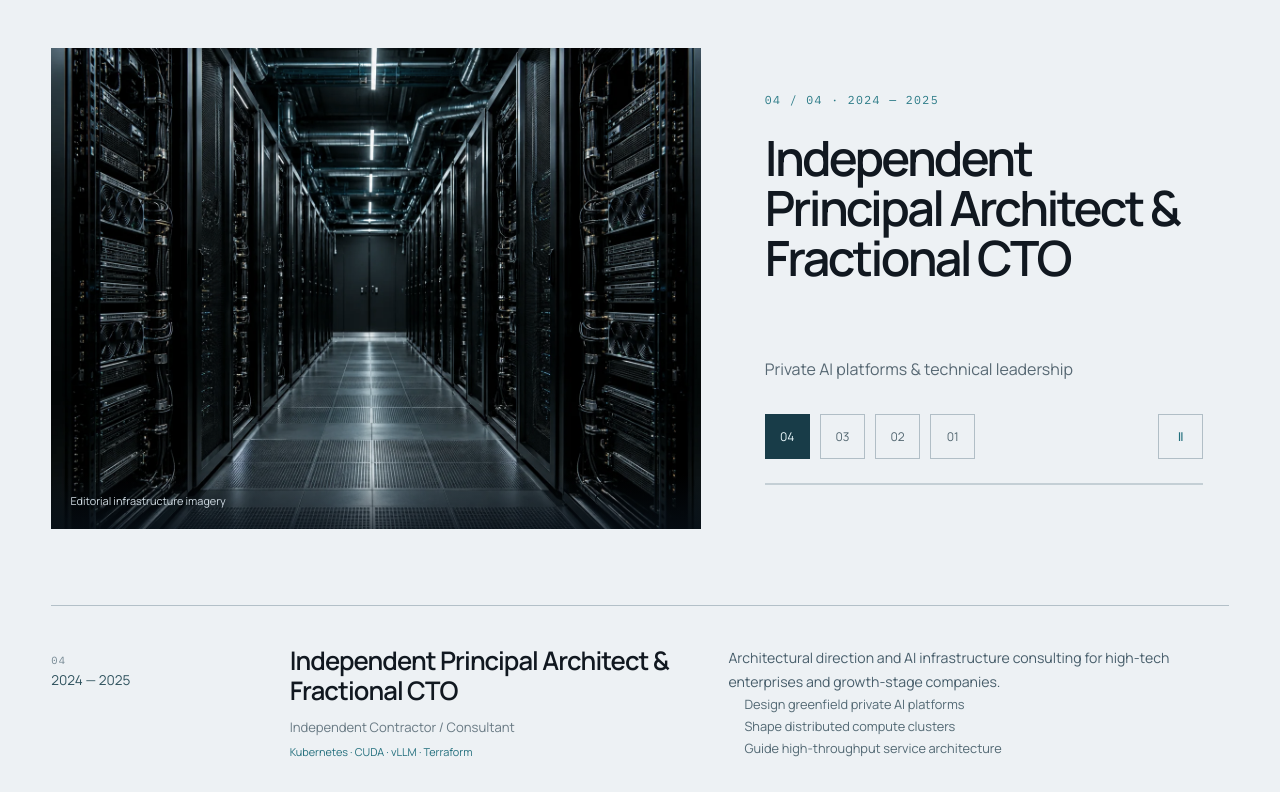
it: open professional content › holds a manually selected experience frame until explicit continuation
The image size is (1280, 792).
(page scrolled)
Click the button named "Show experience frame 4".
click(787, 437)  # box [765, 414, 810, 459]
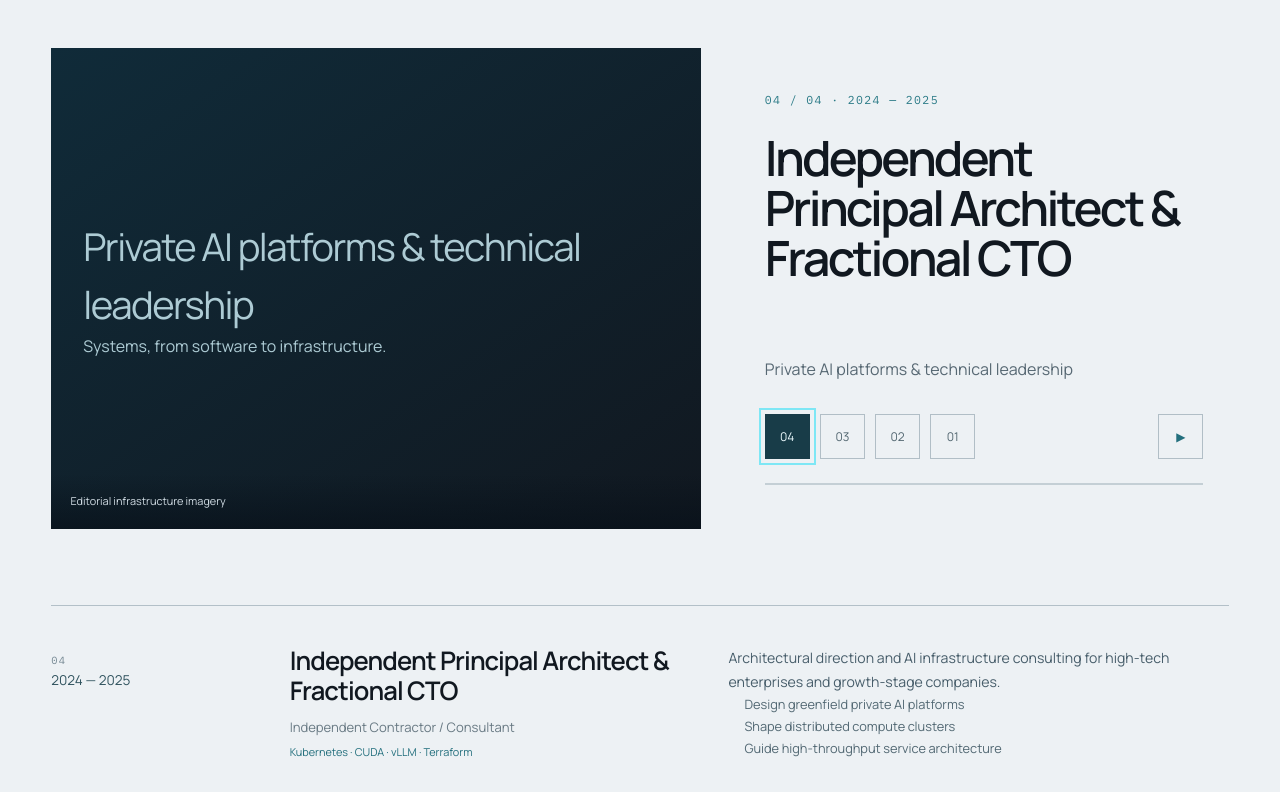
Now the button named "Resume experience presentation" is shown, box [1158, 414, 1203, 459]
